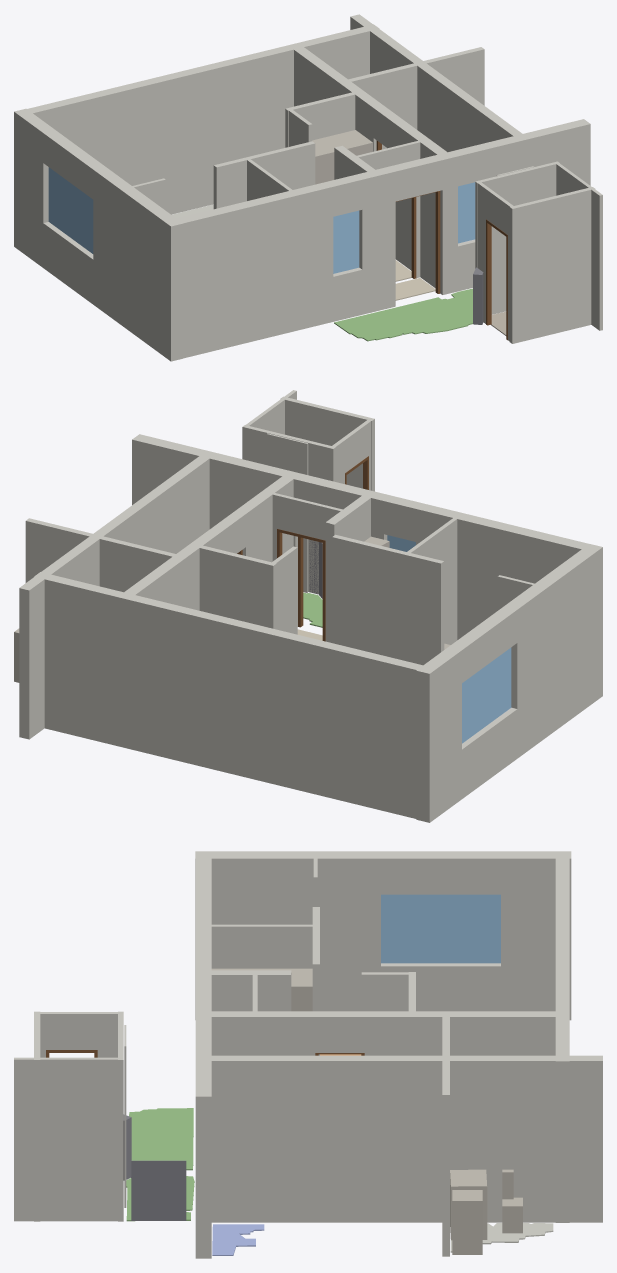
The picture shows the model from 3 angles, top to bottom: view 1: azimuth 30°, elevation 25°; view 2: azimuth 150°, elevation 25°; view 3: azimuth 270°, elevation 25°; orthographic projection. The views are drawn at different scales.
Visible parts, largest first — view 1: walls, floor_9_Outdoor, window_0, furniture_0_closet, window_2, window_6, door_7, door_1, railings, floor_7_Entry, door_3; view 2: walls, window_0, door_3, floor_9_Outdoor, railings; view 3: walls, window_0, floor_9_Outdoor, railings, furniture_4_appliance, floor_10_Bed_Room, furniture_3_appliance, furniture_1_closet, floor_11_Undefined, furniture_10_toilet.
Boxes of the visible parts, bbox=[...] form: walls: bbox=[14, 14, 602, 361]; floor_9_Outdoor: bbox=[334, 288, 472, 341]; window_0: bbox=[48, 167, 93, 253]; furniture_0_closet: bbox=[312, 130, 372, 184]; window_2: bbox=[333, 210, 359, 273]; window_6: bbox=[458, 182, 475, 243]; door_7: bbox=[486, 219, 507, 340]; door_1: bbox=[396, 191, 440, 293]; railings: bbox=[473, 267, 483, 324]; floor_7_Entry: bbox=[395, 278, 435, 300]; door_3: bbox=[411, 197, 416, 278]; walls: bbox=[19, 390, 602, 822]; window_0: bbox=[462, 647, 511, 743]; door_3: bbox=[277, 529, 325, 641]; floor_9_Outdoor: bbox=[303, 592, 322, 627]; railings: bbox=[309, 540, 322, 598]; walls: bbox=[14, 851, 602, 1258]; window_0: bbox=[381, 894, 500, 963]; floor_9_Outdoor: bbox=[126, 1108, 194, 1221]; railings: bbox=[123, 1114, 186, 1220]; furniture_4_appliance: bbox=[452, 1190, 482, 1254]; floor_10_Bed_Room: bbox=[212, 1224, 264, 1255]; furniture_3_appliance: bbox=[450, 1169, 487, 1240]; furniture_1_closet: bbox=[211, 968, 312, 1011]; floor_11_Undefined: bbox=[450, 1223, 553, 1252]; furniture_10_toilet: bbox=[502, 1197, 522, 1233].
Size of the model in its own units: 8.78 by 2.72 by 8.91.
